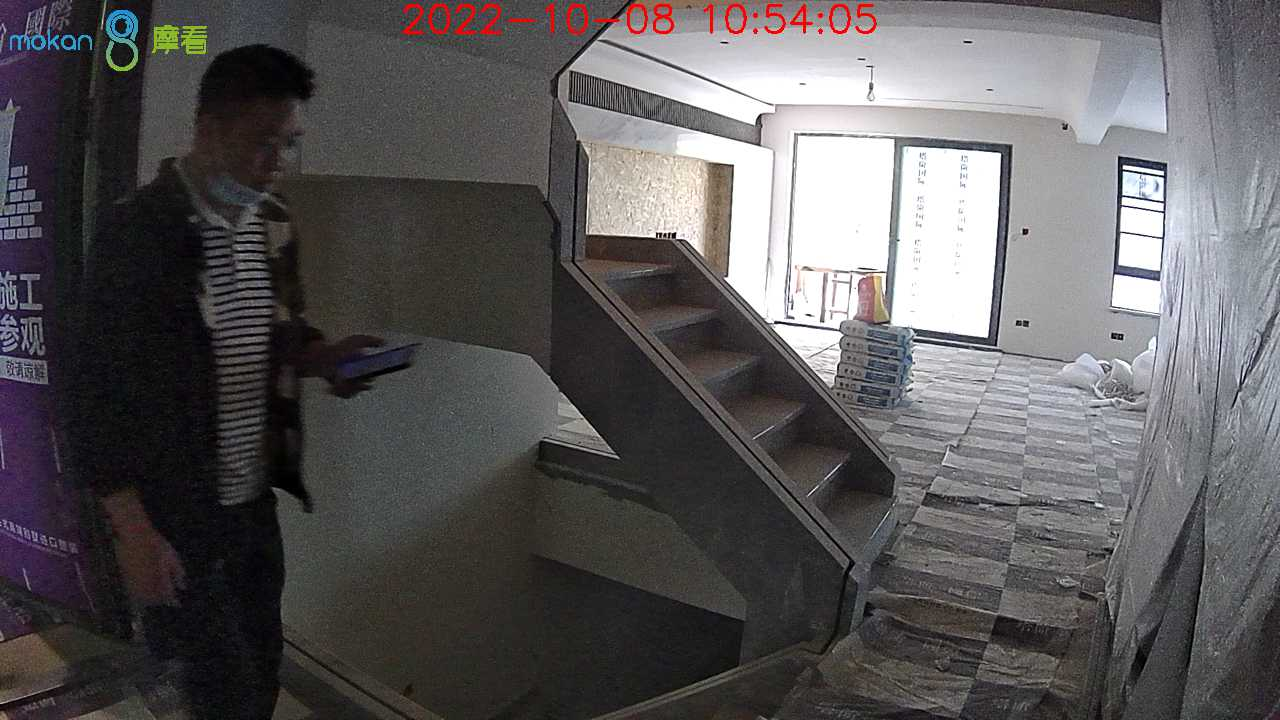people: (65, 46, 362, 720)
window: (794, 135, 993, 340), (1117, 159, 1162, 316)
